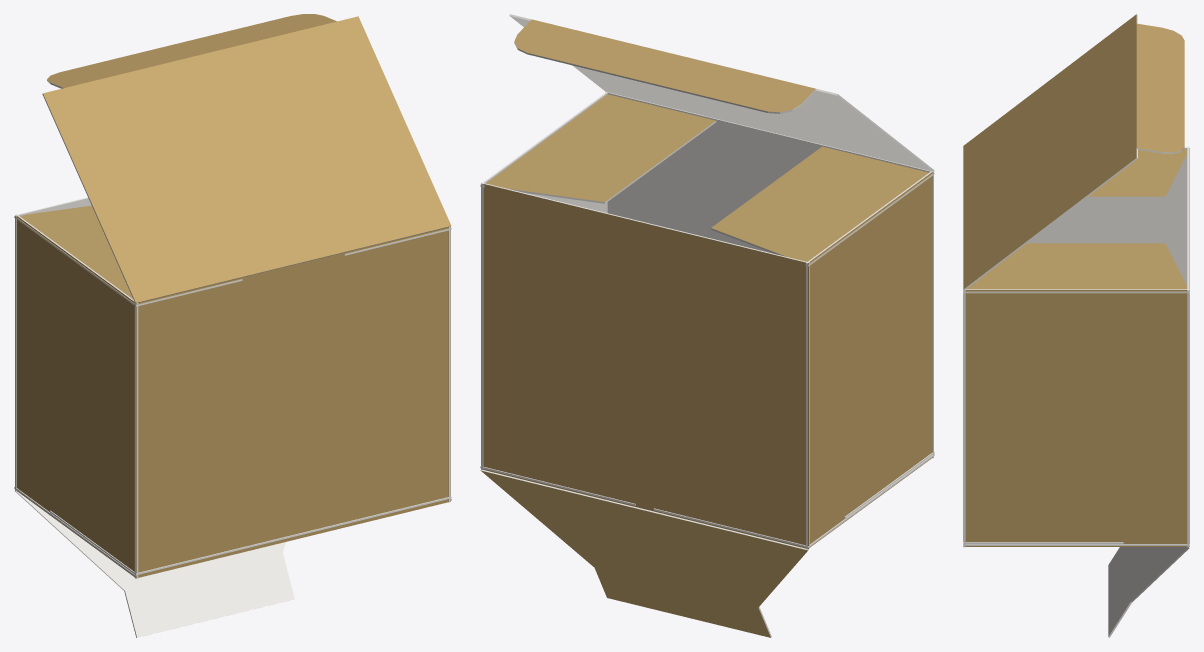
3 renders of one model, left to right at view 1: azimuth 30°, elevation 25°; view 2: azimuth 150°, elevation 25°; view 3: azimuth 270°, elevation 25°, orthographic. The views are drawn at different scales.
Visible parts, largest first — view 1: Packive_Box_fefco0215; view 2: Packive_Box_fefco0215; view 3: Packive_Box_fefco0215.
Boxes of the visible parts, <box> form: Packive_Box_fefco0215: <box>14,14,451,637</box>; Packive_Box_fefco0215: <box>480,14,934,637</box>; Packive_Box_fefco0215: <box>963,14,1189,637</box>.
Bounding box in the file's own units: 0.3 × 0.5026 × 0.2.
Materials: 24 (12 with a texture image).
